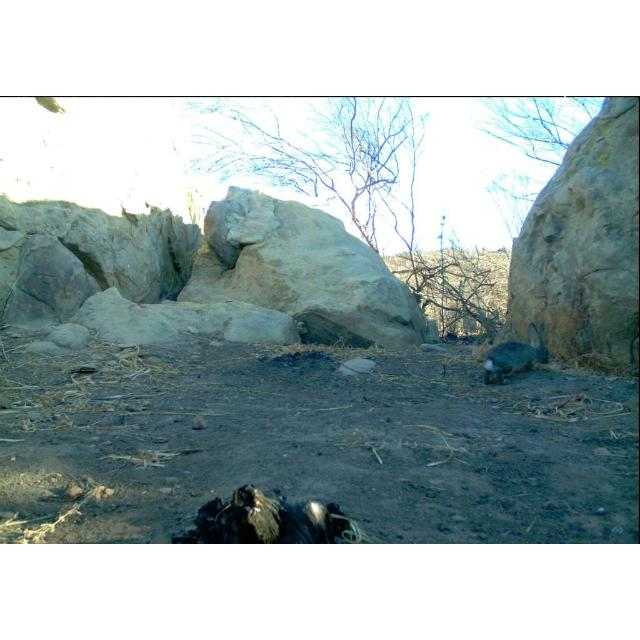animals: (481, 323, 552, 383)
